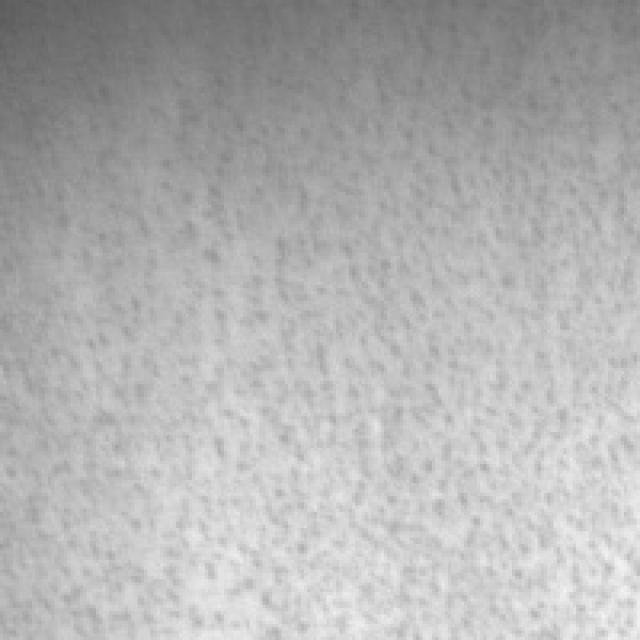pitted_surface: (74, 115, 636, 627)
